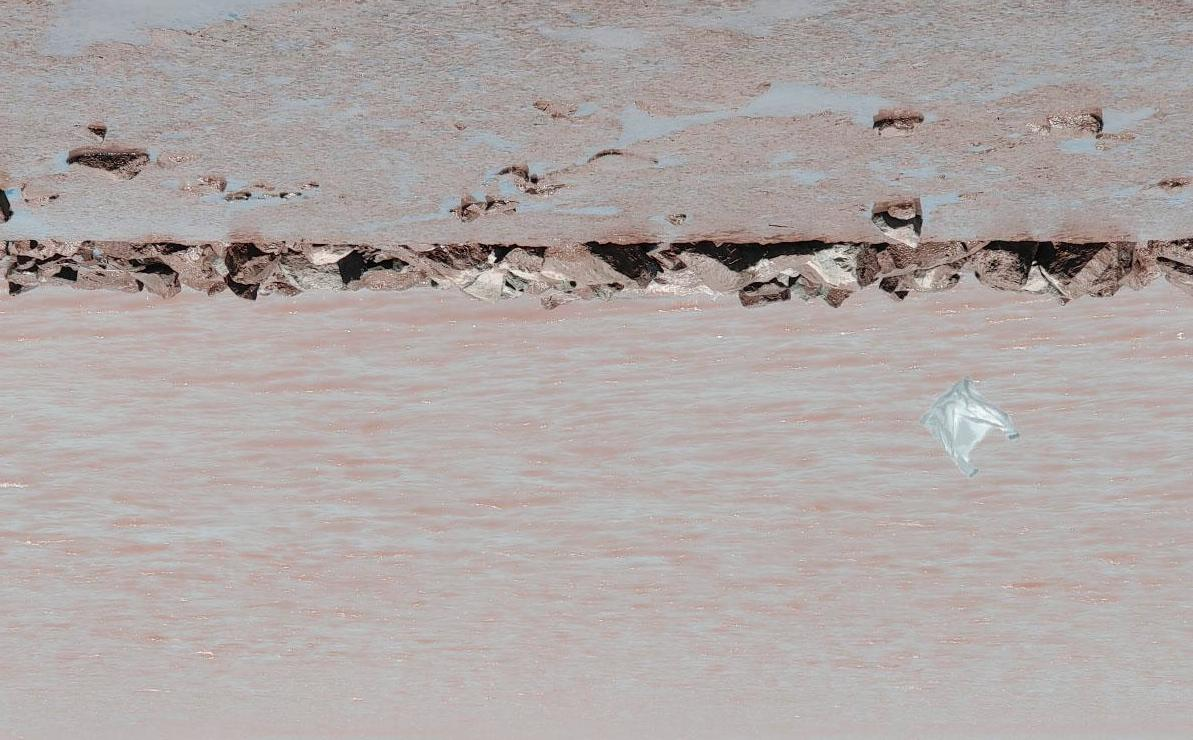Trash: (920, 375, 1019, 484)
